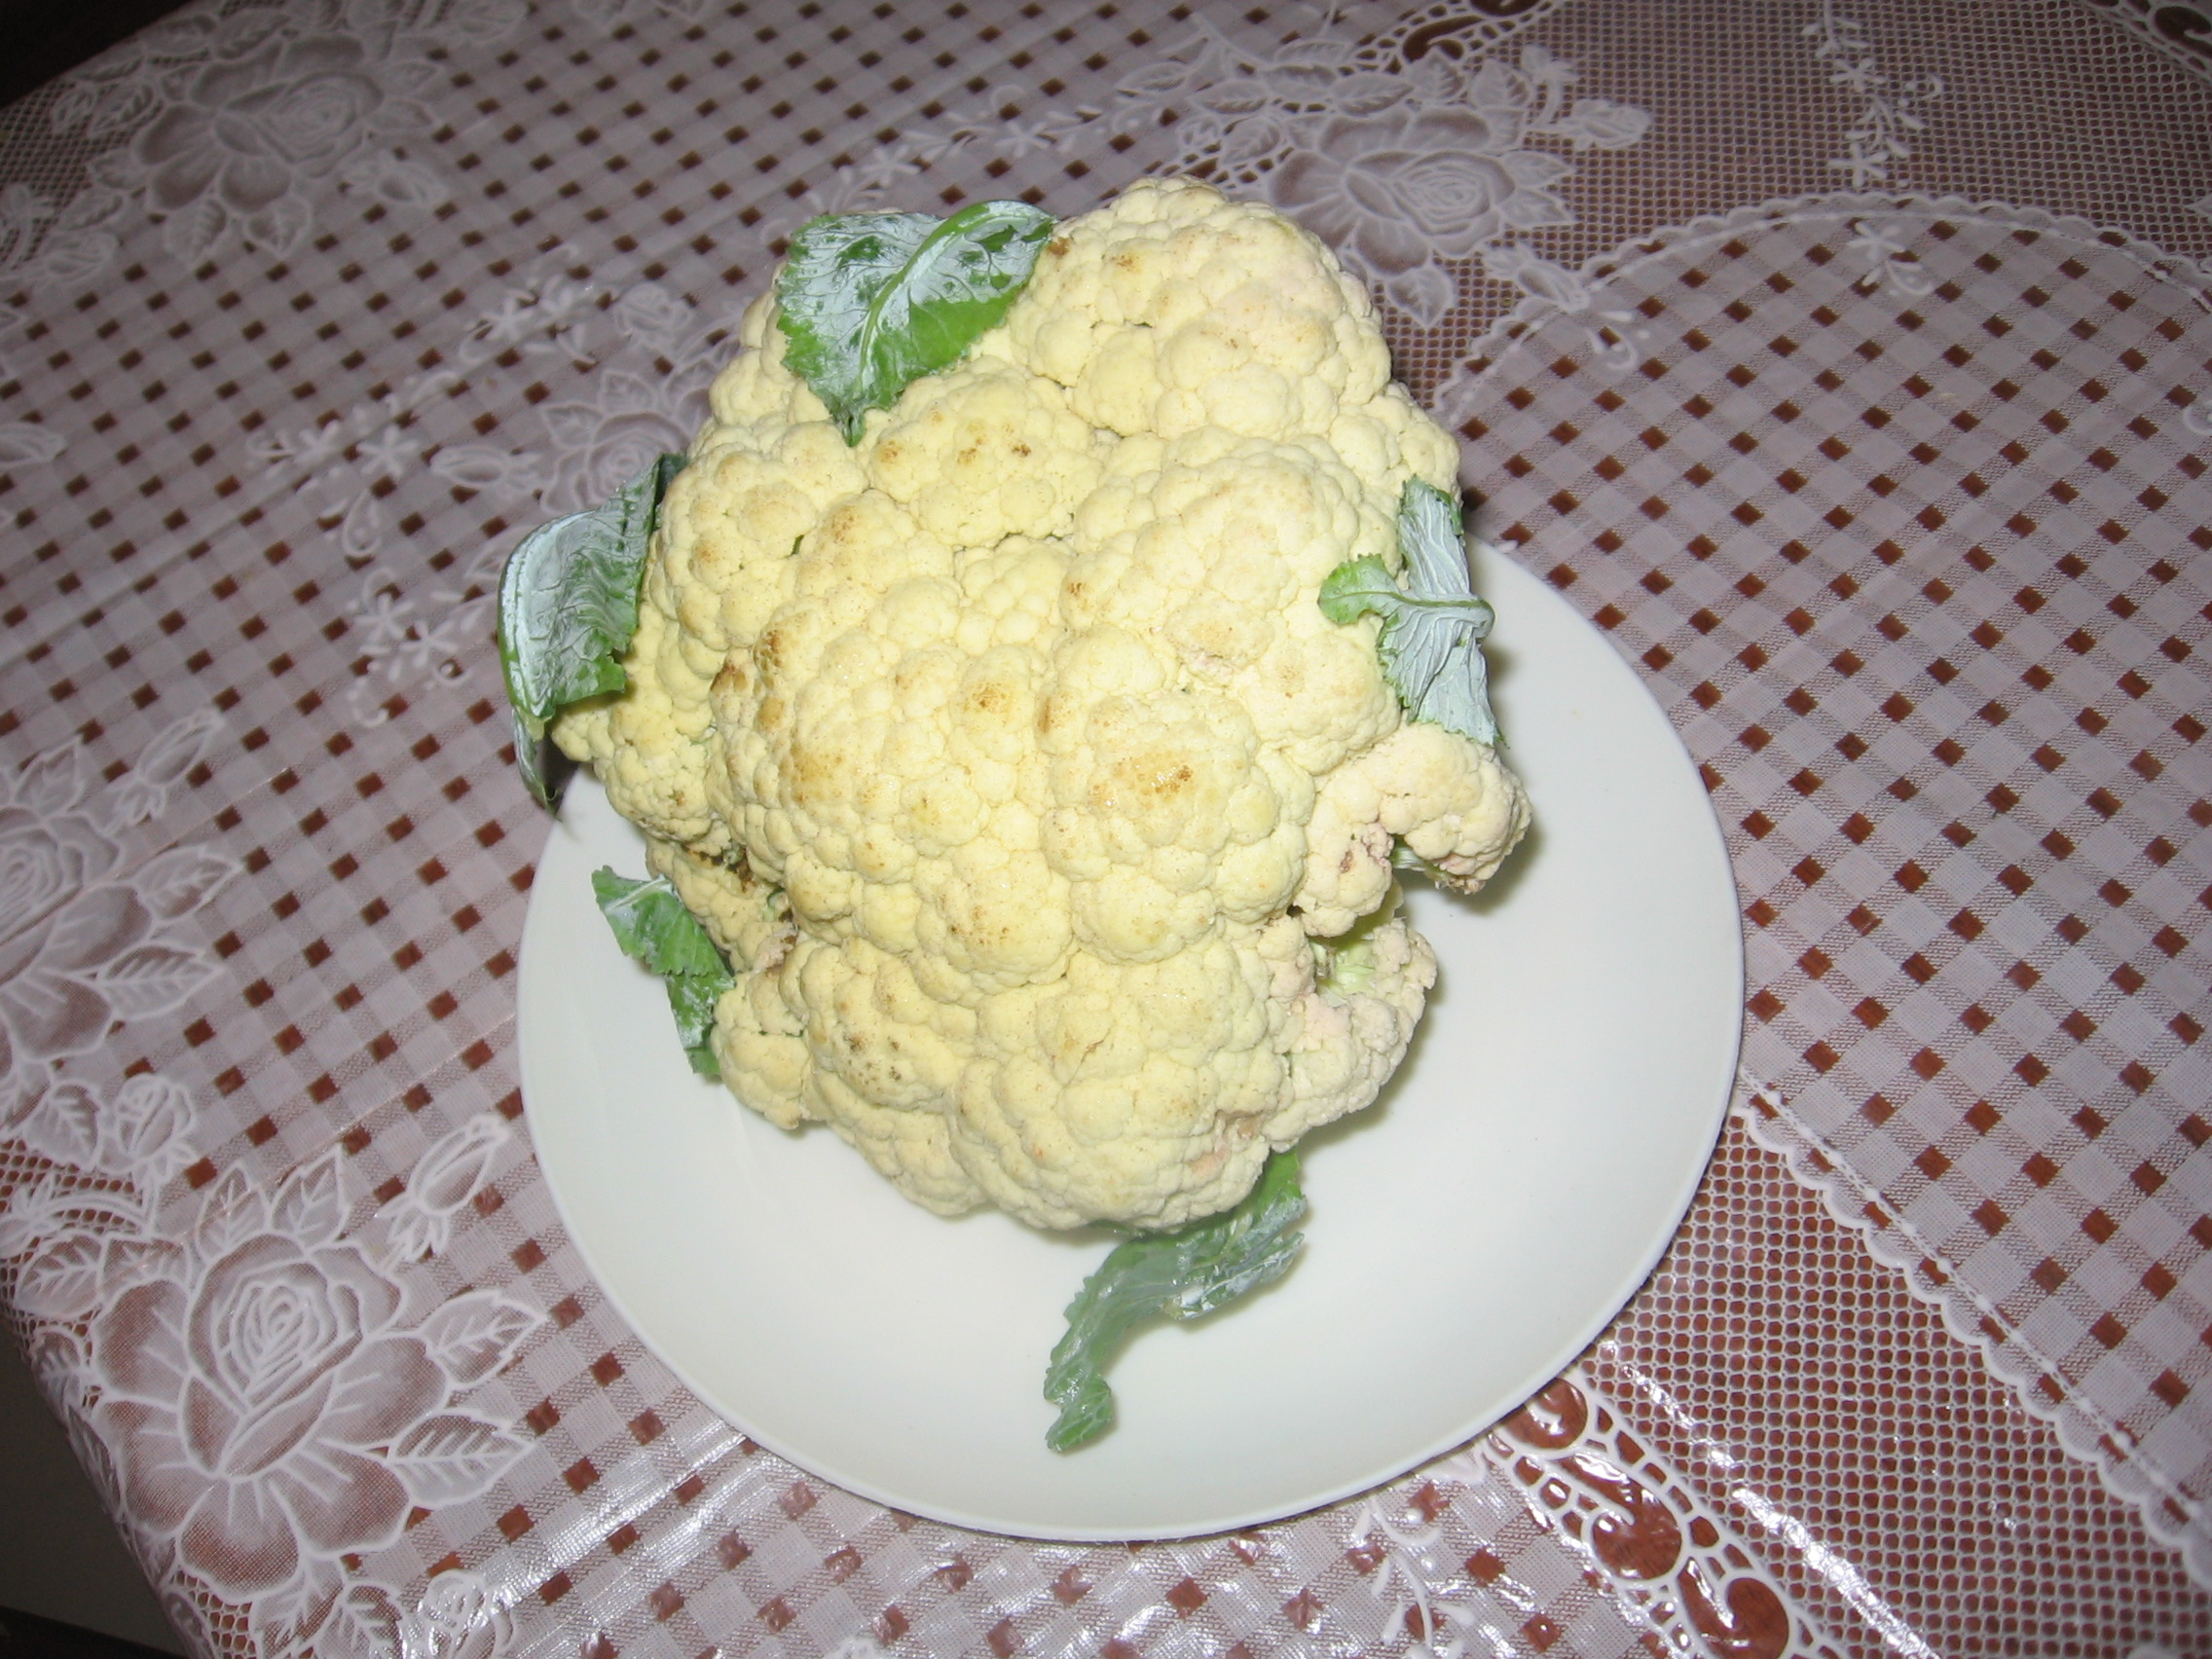cauliflower: (502, 186, 1540, 1446)
